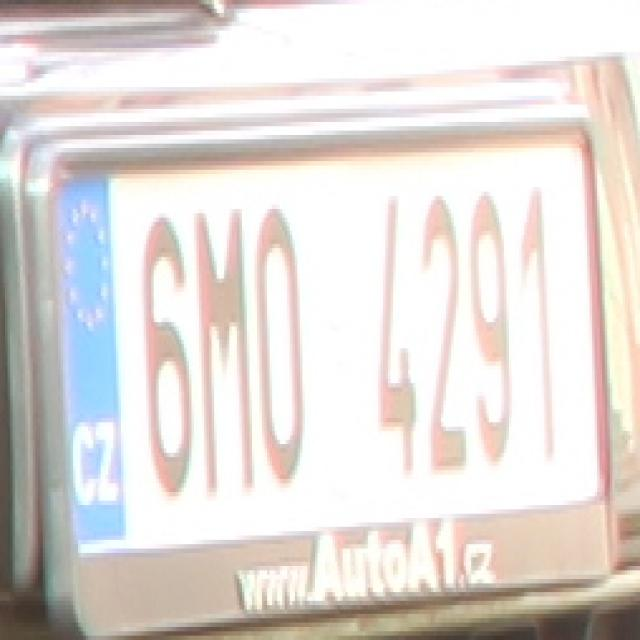0: (254, 196, 310, 488)
1: (516, 183, 570, 466)
2: (421, 191, 466, 479)
4: (375, 196, 416, 479)
6: (141, 205, 187, 492)
9: (469, 179, 514, 470)
M: (189, 196, 252, 488)
